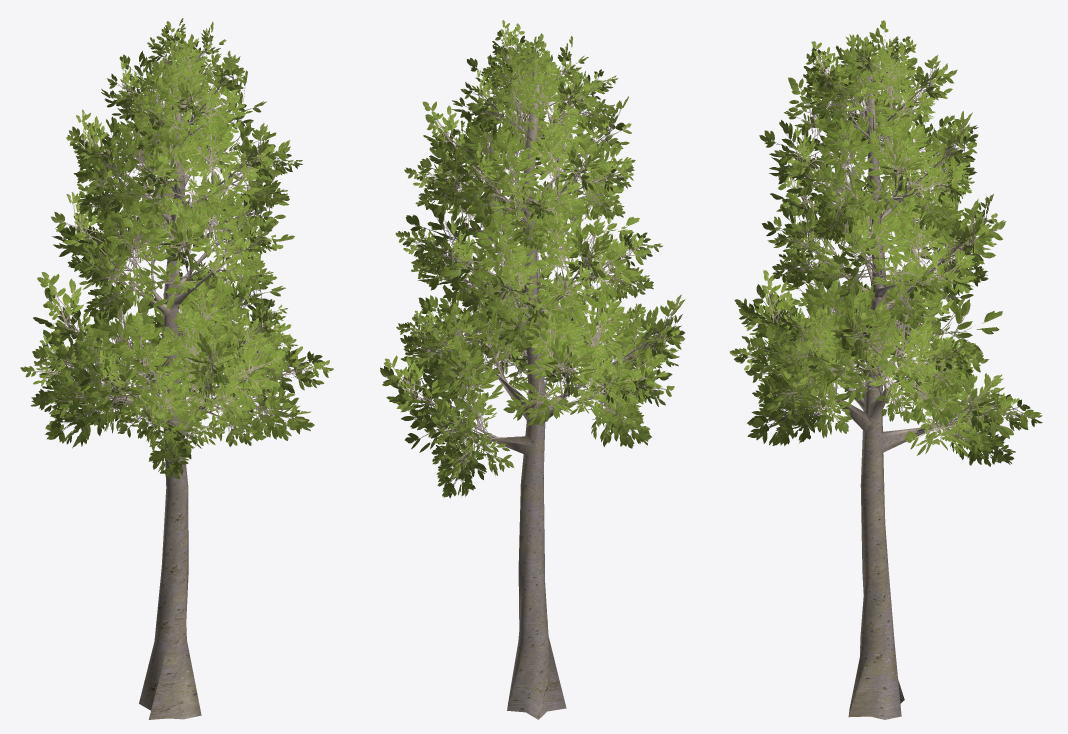
File: tree_01_full.fbx
3 views of the same model, side by side, from view 1: azimuth 30°, elevation 25°; view 2: azimuth 150°, elevation 25°; view 3: azimuth 270°, elevation 25° (orthographic). The views are drawn at different scales.
Parts seen in each view (by area): view 1: tree_01_full; view 2: tree_01_full; view 3: tree_01_full.
Part boxes in pixels (left/top/right/bottom): tree_01_full: left=20, top=18, right=333, bottom=719; tree_01_full: left=380, top=20, right=685, bottom=719; tree_01_full: left=729, top=20, right=1042, bottom=719.
Bounding box in the file's own units: 2.48 × 6.04 × 2.6.
